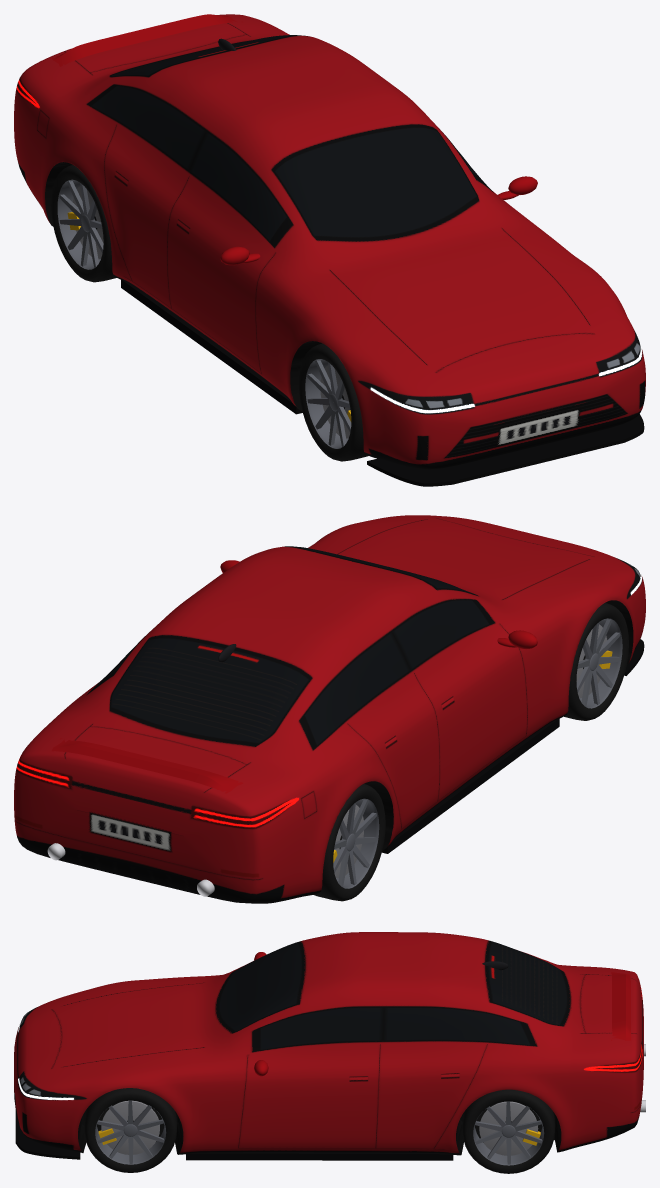
The model's file is sport_sedan.glb.
3 renders of one model, top to bottom at view 1: azimuth 30°, elevation 25°; view 2: azimuth 150°, elevation 25°; view 3: azimuth 270°, elevation 25°, orthographic. The views are drawn at different scales.
Parts seen in each view (by area): view 1: Body, Wheel_FR, Wheel_RR; view 2: Body, Wheel_RR, Wheel_FR; view 3: Body, Wheel_FL, Wheel_RL.
Boxes of the visible parts, x1,y1,x2,y2 form: Body: [14, 14, 645, 486]; Wheel_FR: [299, 343, 368, 461]; Wheel_RR: [51, 165, 116, 282]; Body: [14, 515, 645, 903]; Wheel_RR: [313, 784, 385, 901]; Wheel_FR: [564, 603, 628, 720]; Body: [14, 932, 645, 1160]; Wheel_FL: [84, 1088, 176, 1172]; Wheel_RL: [462, 1089, 554, 1173].
Size of the model in its own units: 2.12 by 1.4 by 4.77.
10 materials, 1 textured.
